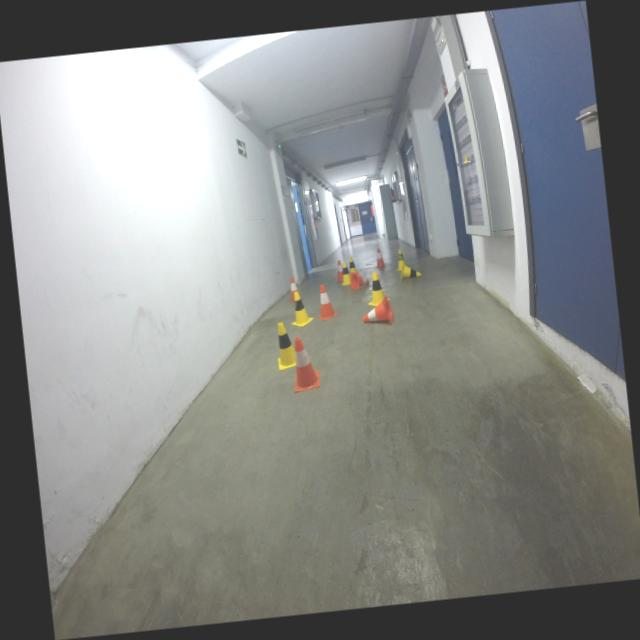orange_cone: (288, 335, 321, 392), (360, 293, 394, 328), (314, 283, 338, 321), (286, 275, 304, 302), (348, 270, 369, 290), (374, 248, 386, 267), (334, 260, 344, 282)
yellow_cone: (274, 320, 296, 370), (288, 290, 314, 328), (364, 270, 390, 306), (399, 260, 422, 280), (393, 248, 406, 270), (339, 261, 350, 285), (348, 256, 357, 272)
